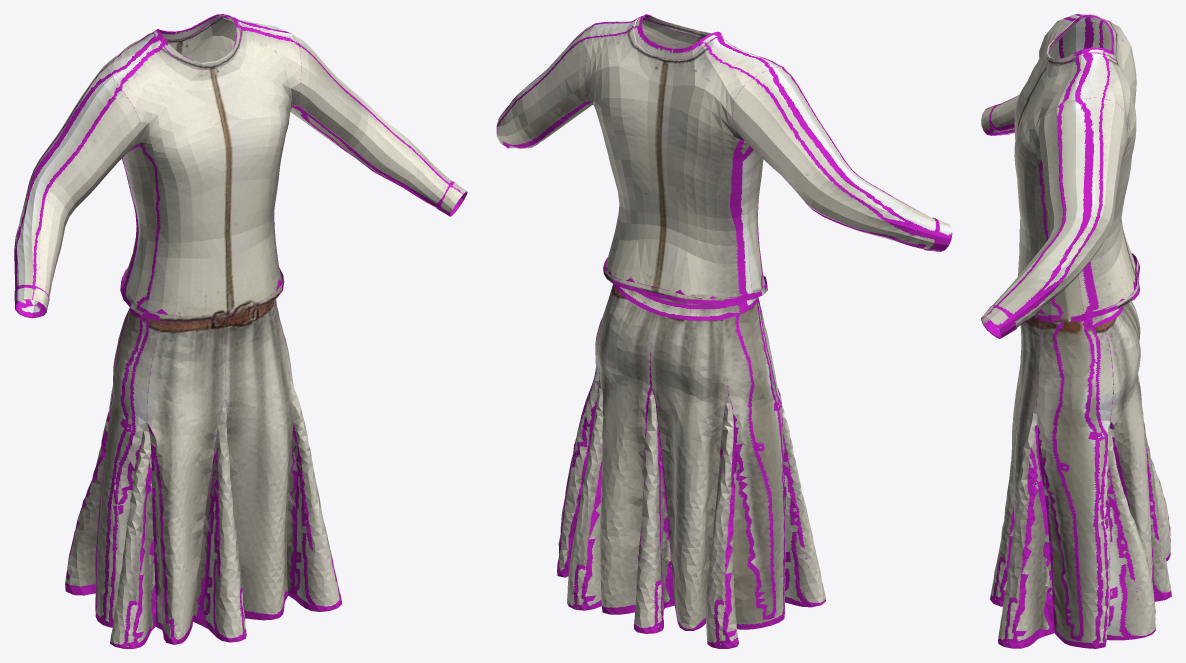
3 renders of one model, left to right at view 1: azimuth 30°, elevation 25°; view 2: azimuth 150°, elevation 25°; view 3: azimuth 270°, elevation 25°, orthographic. The views are drawn at different scales.
Bounding box in the file's own units: 0.7735 × 0.9498 × 0.2869.
1 material, 1 textured.
